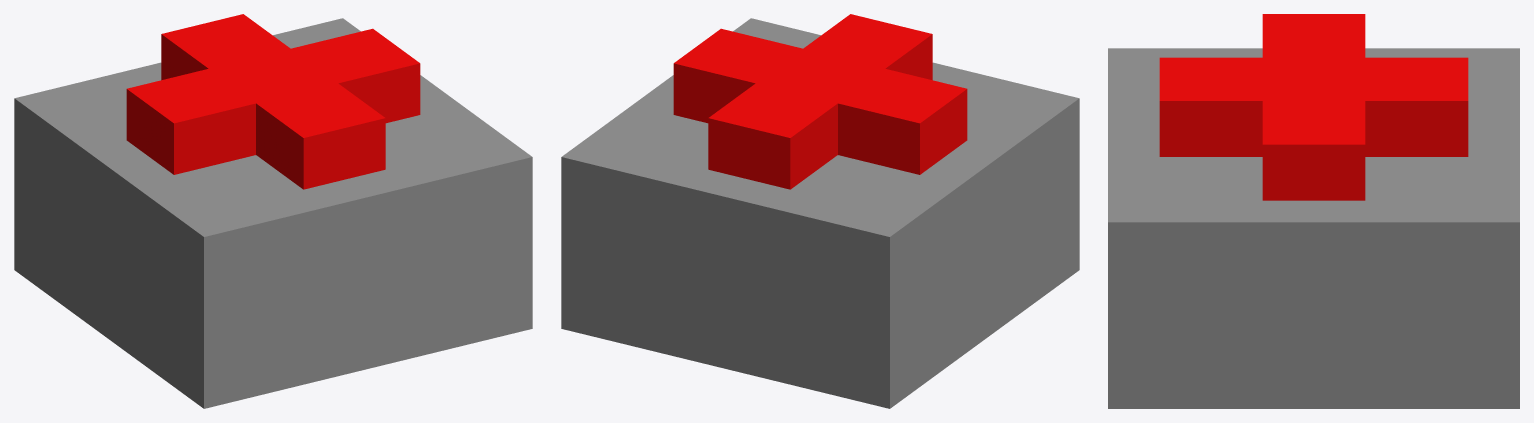
File: HealthBox.FBX
3 renders of one model, left to right at view 1: azimuth 30°, elevation 25°; view 2: azimuth 150°, elevation 25°; view 3: azimuth 270°, elevation 25°, orthographic. The views are drawn at different scales.
Parts seen in each view (by area): view 1: Health Box; view 2: Health Box; view 3: Health Box.
Boxes of the visible parts, x1,y1,x2,y2 form: Health Box: [14, 14, 532, 408]; Health Box: [561, 14, 1079, 408]; Health Box: [1108, 14, 1519, 408].
Size of the model in its own units: 39.37 by 25.59 by 39.37.
